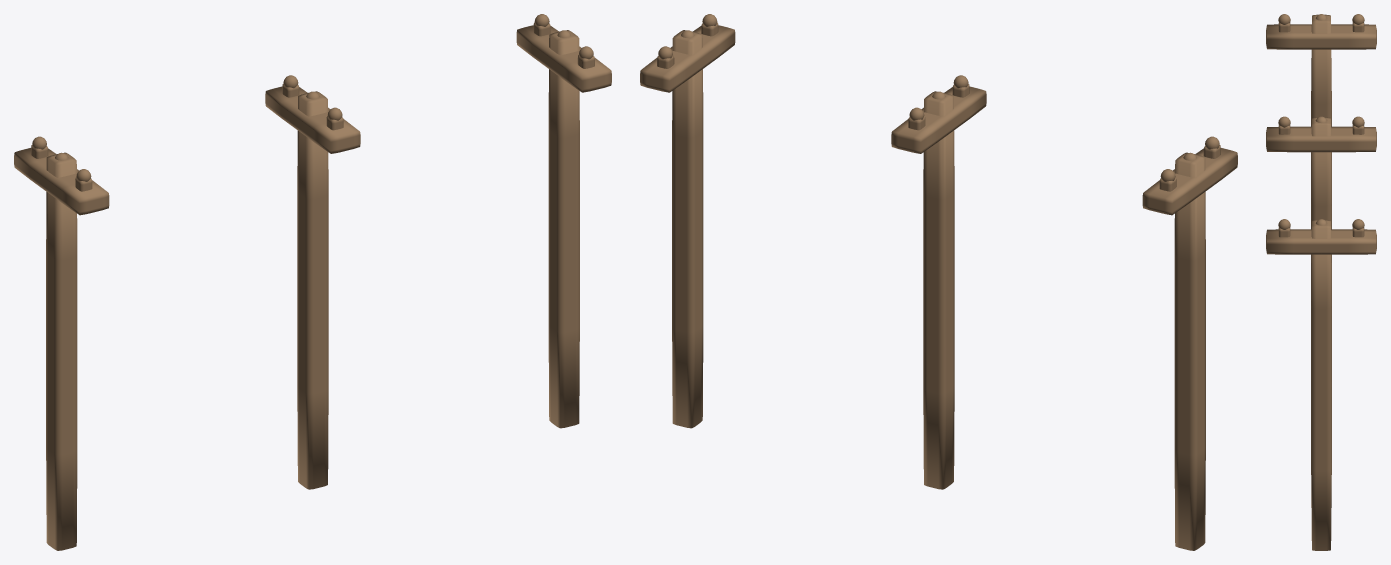
Rendered from PowerPoles.gltf.
3 views of the same model, side by side, from view 1: azimuth 30°, elevation 25°; view 2: azimuth 150°, elevation 25°; view 3: azimuth 270°, elevation 25° (orthographic). The views are drawn at different scales.
Visible parts, largest first — view 1: Utility poles; view 2: Utility poles; view 3: Utility poles.
Part boxes in pixels (x1,y1,x2,y2): Utility poles: (14, 14, 611, 550); Utility poles: (640, 14, 1237, 550); Utility poles: (1266, 14, 1376, 550).
Bounding box in the file's own units: 2.23 × 1.57 × 0.48.
